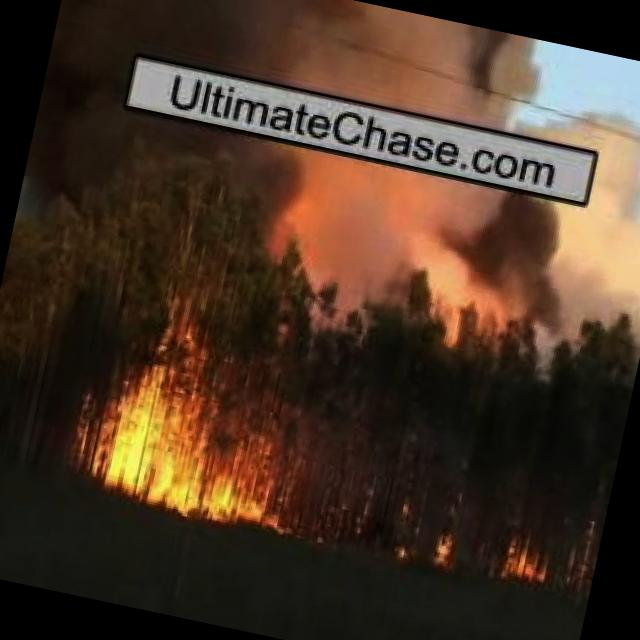fire: (92, 370, 302, 534), (499, 526, 556, 588), (428, 520, 460, 568)
